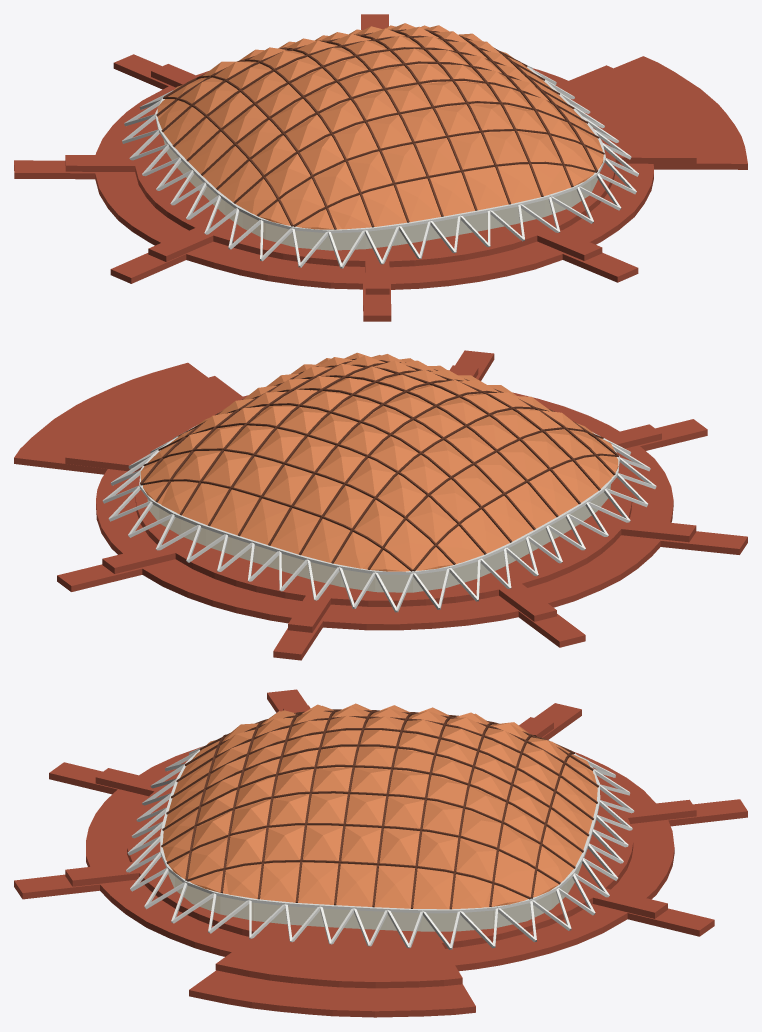
The model's file is mex_palacio.glb.
3 renders of one model, top to bottom at view 1: azimuth 30°, elevation 25°; view 2: azimuth 150°, elevation 25°; view 3: azimuth 270°, elevation 25°, orthographic. The views are drawn at different scales.
Parts seen in each view (by area): view 1: mexico-city-palacio-de-los-deportes; view 2: mexico-city-palacio-de-los-deportes; view 3: mexico-city-palacio-de-los-deportes.
Part boxes in pixels (left/top/right/bottom): mexico-city-palacio-de-los-deportes: left=14, top=14, right=747, bottom=321; mexico-city-palacio-de-los-deportes: left=14, top=350, right=747, bottom=660; mexico-city-palacio-de-los-deportes: left=14, top=689, right=747, bottom=1017.
Bounding box in the file's own units: 242 × 43.6 × 233.
